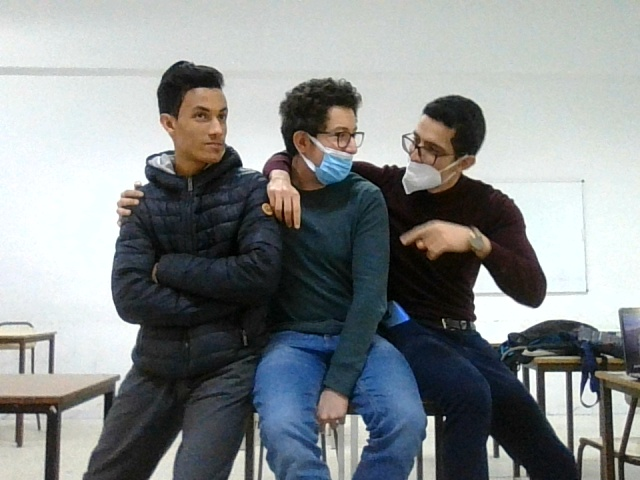mask_weared_incorrect: (281, 78, 371, 192), (396, 80, 475, 206)
without_mask: (147, 57, 236, 171)
